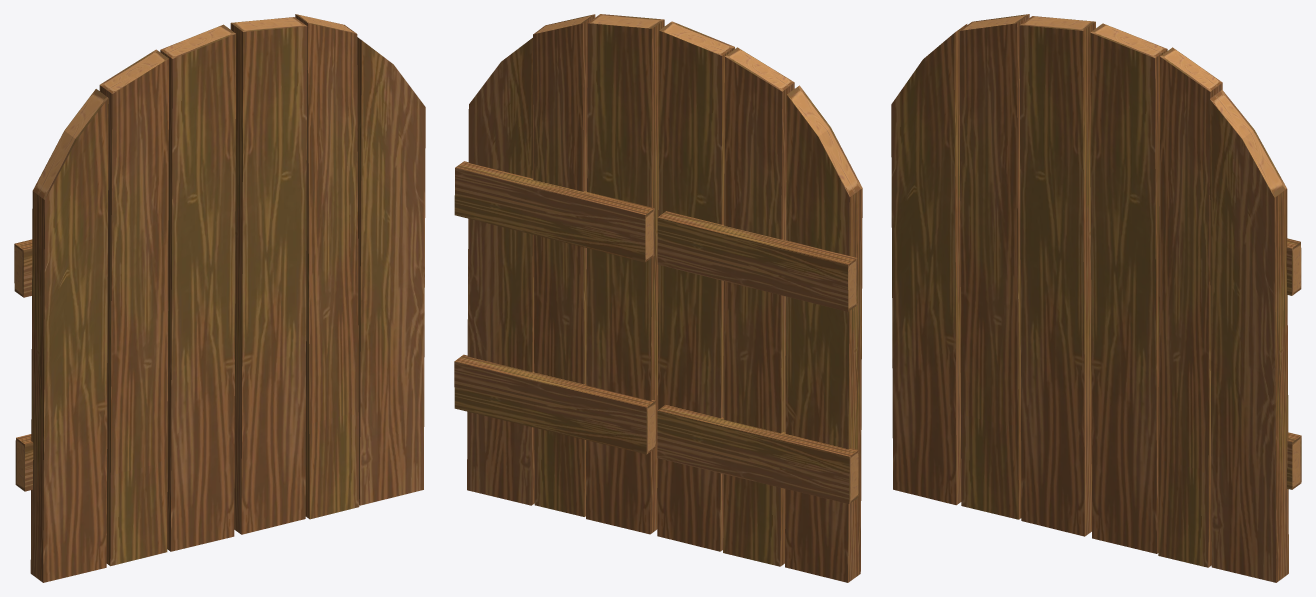
Rendered from WindowShutters_Wide_Round_Closed.glb.
The picture shows the model from 3 angles, left to right: view 1: azimuth 30°, elevation 25°; view 2: azimuth 150°, elevation 25°; view 3: azimuth 330°, elevation 25°; orthographic projection.
Parts seen in each view (by area): view 1: WindowShutters_Wide_Round_Closed; view 2: WindowShutters_Wide_Round_Closed; view 3: WindowShutters_Wide_Round_Closed.
Part boxes in pixels (x1,y1,x2,y2): WindowShutters_Wide_Round_Closed: [14, 14, 425, 582]; WindowShutters_Wide_Round_Closed: [454, 14, 862, 582]; WindowShutters_Wide_Round_Closed: [891, 14, 1301, 582].
Bounding box in the file's own units: 1.35 × 1.65 × 0.1357.
Materials: 1 (1 with a texture image).
